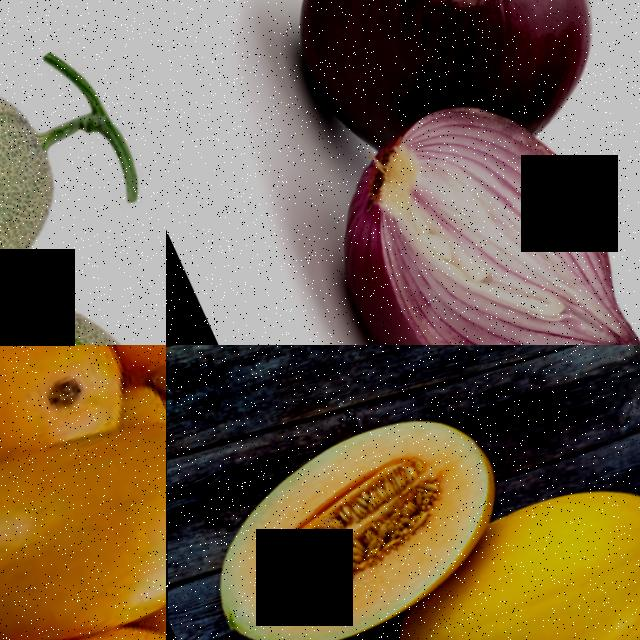mango: (0, 359, 166, 640), (0, 576, 166, 640)
melon: (178, 390, 517, 640), (379, 487, 640, 640), (0, 22, 109, 319), (0, 247, 166, 345)
onion: (305, 102, 640, 345), (245, 0, 615, 158)
